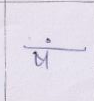anusvara: (46, 38, 50, 43)
